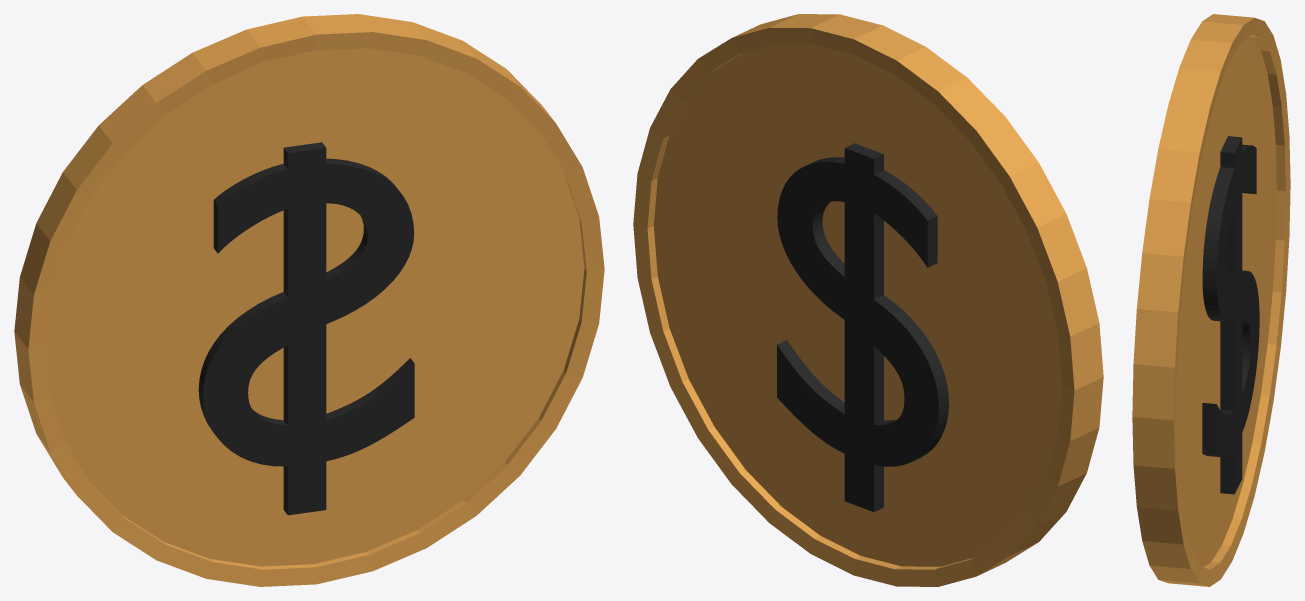
File: koin.fbx
3 views of the same model, side by side, from view 1: azimuth 30°, elevation 25°; view 2: azimuth 150°, elevation 25°; view 3: azimuth 270°, elevation 25° (orthographic). The views are drawn at different scales.
Parts seen in each view (by area): view 1: Cylinder; view 2: Cylinder; view 3: Cylinder.
Boxes of the visible parts, left/top/right/bottom form: Cylinder: left=14, top=14, right=604, bottom=586; Cylinder: left=633, top=14, right=1103, bottom=586; Cylinder: left=1132, top=14, right=1290, bottom=586.
Size of the model in its own units: 212 by 213 by 58.9.
